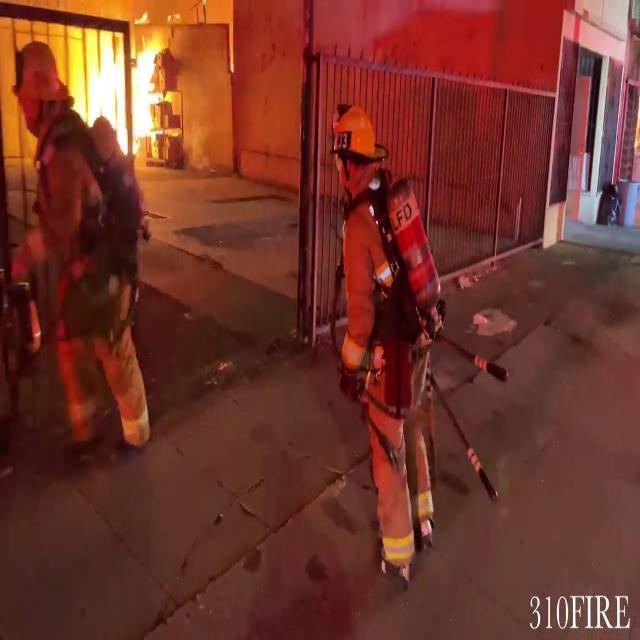Fire: (80, 7, 174, 156)
